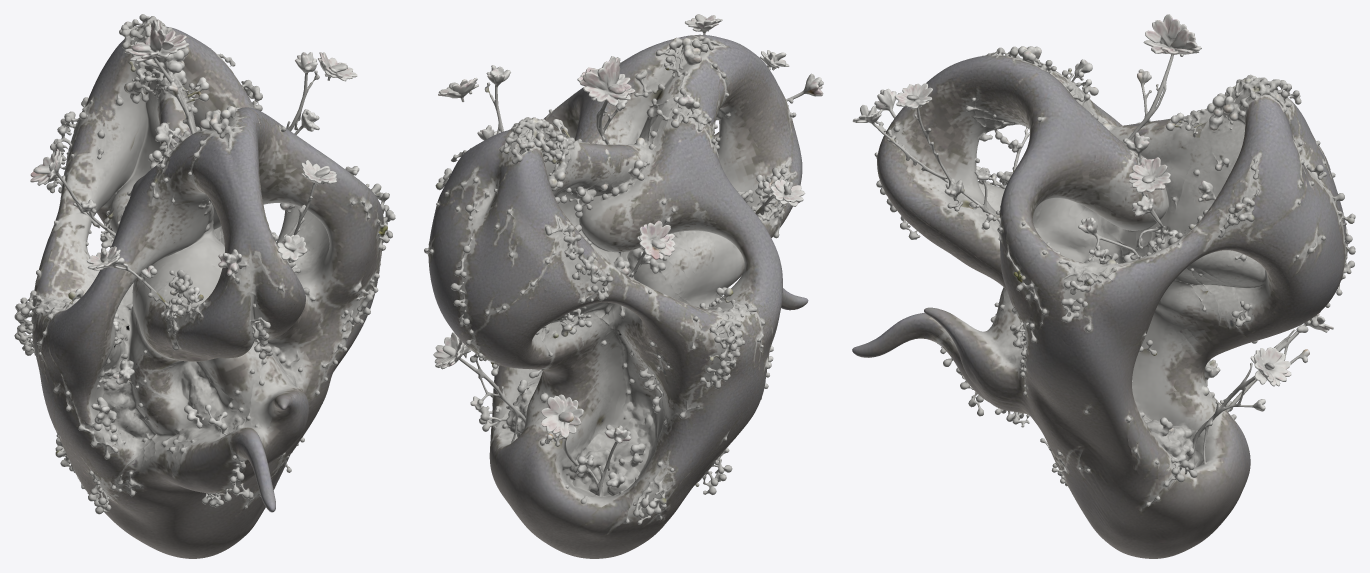
File: muse-stage-1.glb
The picture shows the model from 3 angles, left to right: view 1: azimuth 30°, elevation 25°; view 2: azimuth 150°, elevation 25°; view 3: azimuth 270°, elevation 25°; orthographic projection. The views are drawn at different scales.
Visible parts, largest first — view 1: tripo_node_99b8e60f-d361-40f5-b326-4cb3765e94cf; view 2: tripo_node_99b8e60f-d361-40f5-b326-4cb3765e94cf; view 3: tripo_node_99b8e60f-d361-40f5-b326-4cb3765e94cf.
Part boxes in pixels (<box>): tripo_node_99b8e60f-d361-40f5-b326-4cb3765e94cf: <box>14,14,395,558</box>; tripo_node_99b8e60f-d361-40f5-b326-4cb3765e94cf: <box>424,14,823,558</box>; tripo_node_99b8e60f-d361-40f5-b326-4cb3765e94cf: <box>852,14,1355,558</box>.
Size of the model in its own units: 0.6293 by 0.9796 by 0.8546.
1 material, 1 textured.
